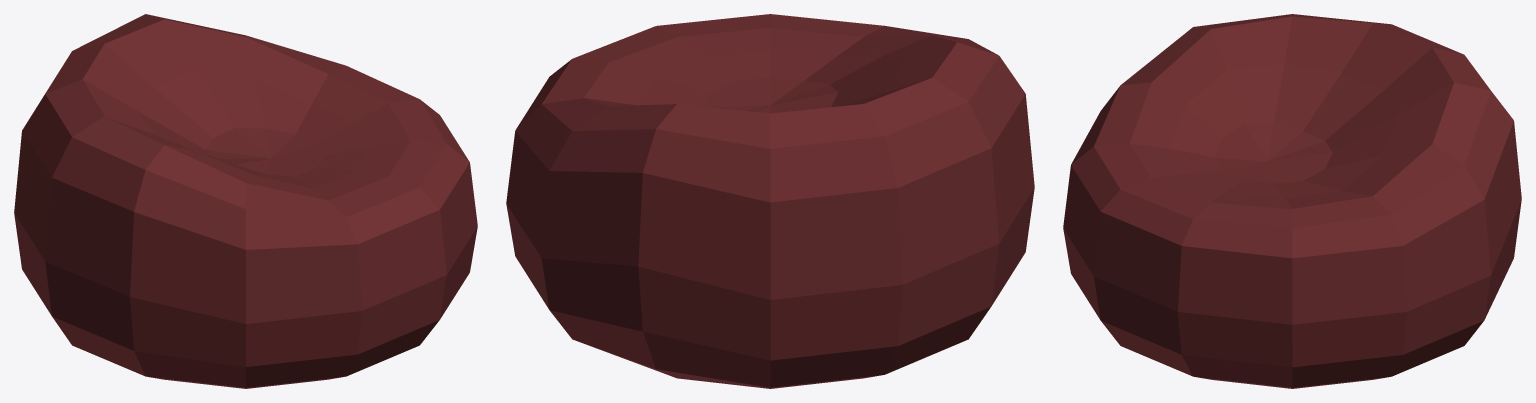
Rendered from SaccoChairV2Red.fbx.
The picture shows the model from 3 angles, left to right: view 1: azimuth 30°, elevation 25°; view 2: azimuth 150°, elevation 25°; view 3: azimuth 270°, elevation 25°; orthographic projection. The views are drawn at different scales.
Parts seen in each view (by area): view 1: SaccoChairV2Red; view 2: SaccoChairV2Red; view 3: SaccoChairV2Red.
Part boxes in pixels (<box>): SaccoChairV2Red: <box>14,14,477,388</box>; SaccoChairV2Red: <box>506,14,1034,388</box>; SaccoChairV2Red: <box>1063,14,1521,388</box>.
Bounding box in the file's own units: 120 × 69.41 × 120.
